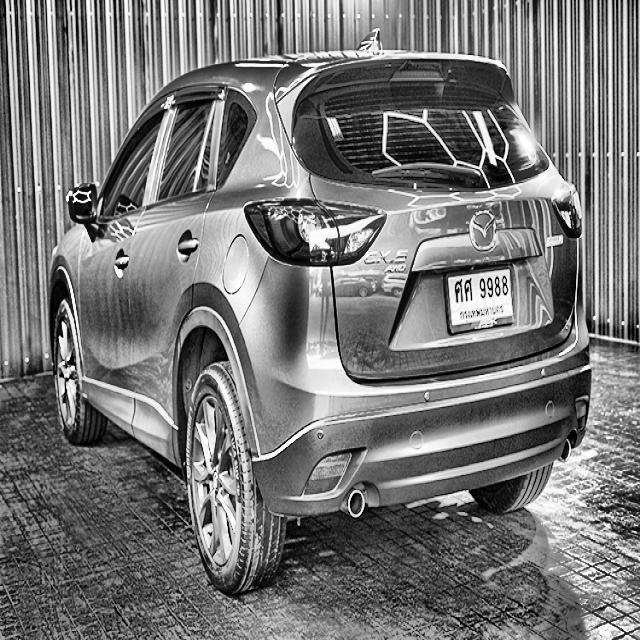license-plate: (444, 265, 516, 333)
